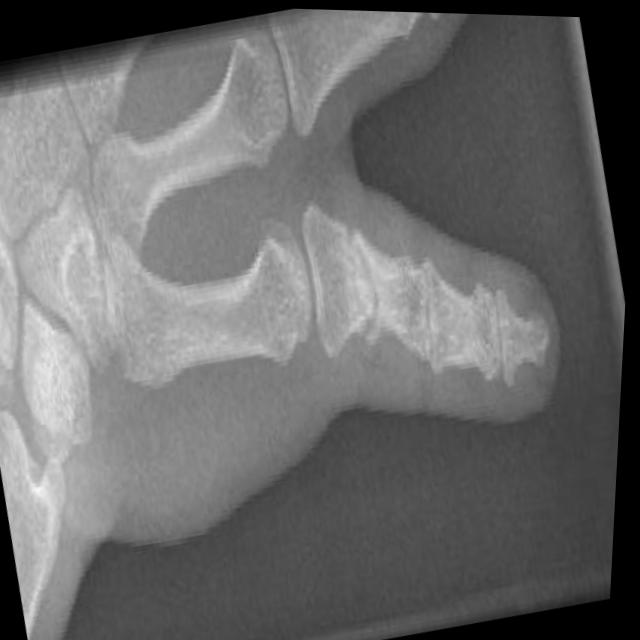fracture: (328, 192, 416, 394)
